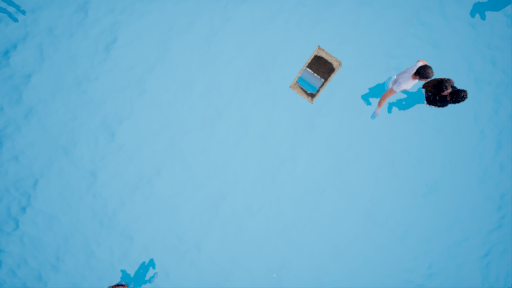person: (368, 49, 471, 136)
